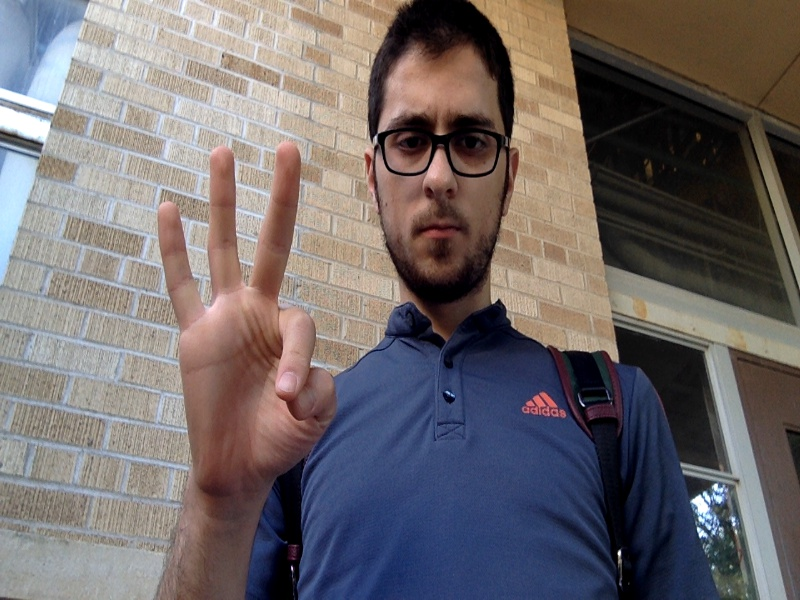3-hand: (160, 143, 335, 504)
